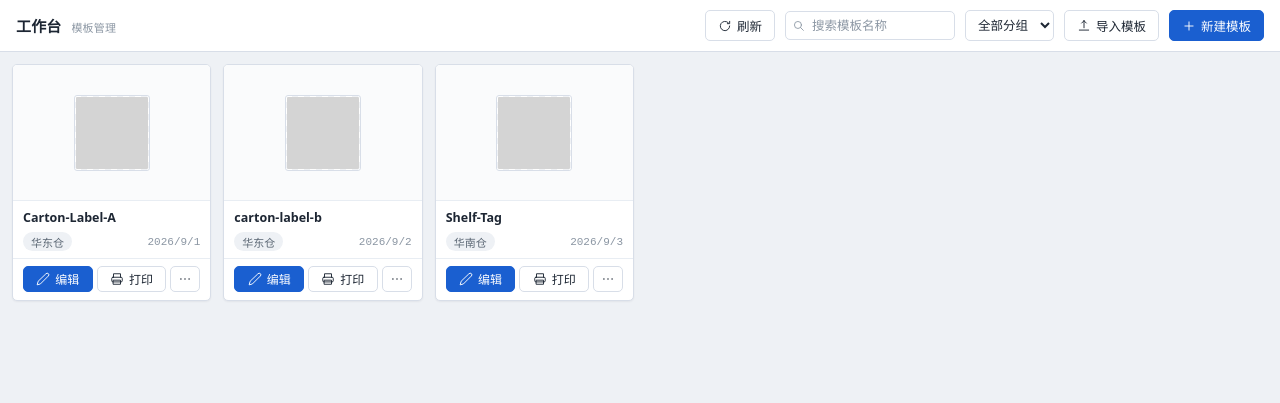
Test: ⋯ 溢出菜单（迭代 104 · #225） › 点 ⋯ 打开：菜单 portal 挂 body 直下 + fixed（防 .wb-card overflow 裁剪），含导出与 danger 删除菜单项
expect the text "Shelf-Tag" is shown: met, box [446,209,502,226]
Click the button named "更多操作" at (608, 279), box [593,266,623,292]
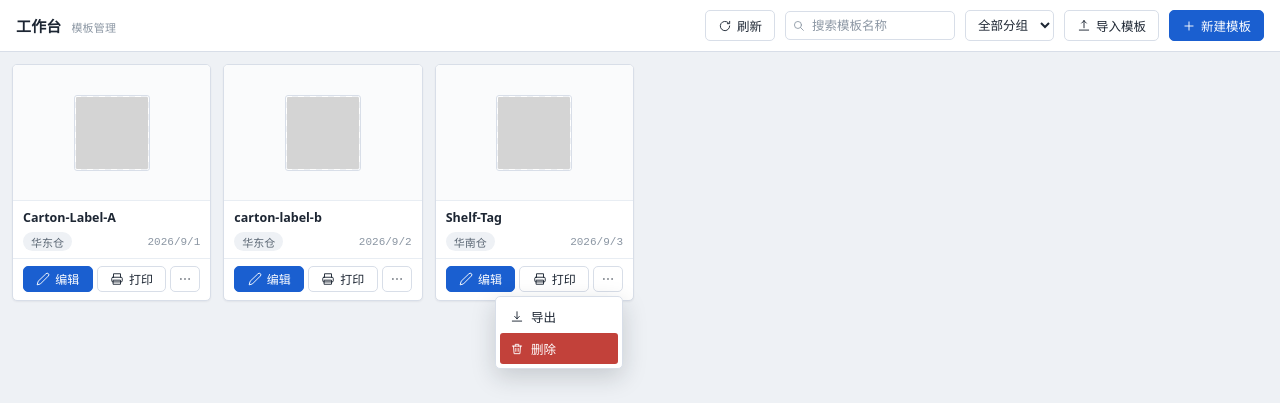
expect the menu item "导出" is shown: met, box [500,301,618,332]
